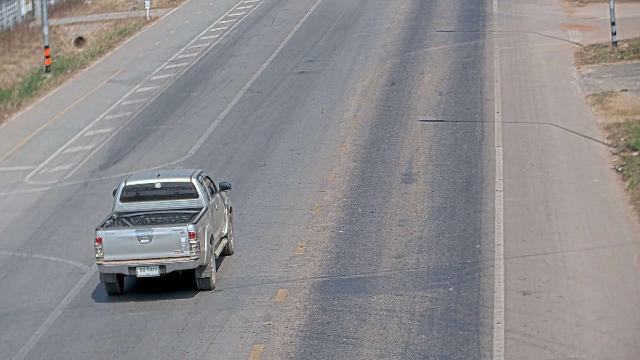pickup-truck: (93, 168, 235, 296)
